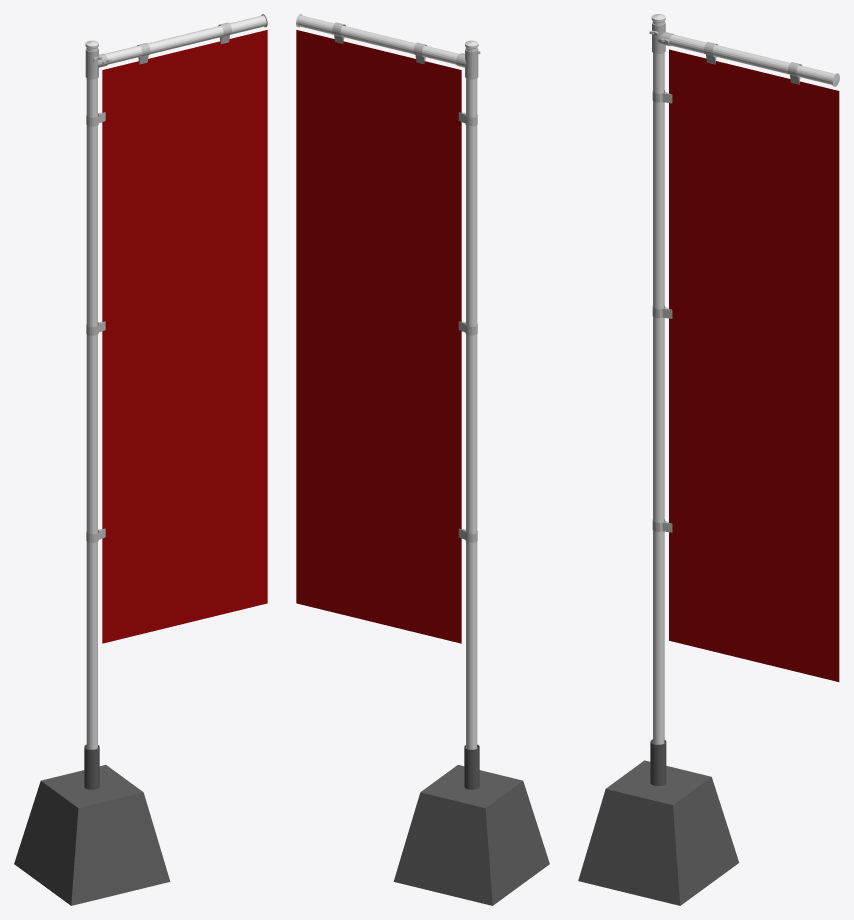
File: flag.fbx
3 views of the same model, side by side, from view 1: azimuth 30°, elevation 25°; view 2: azimuth 150°, elevation 25°; view 3: azimuth 330°, elevation 25° (orthographic). The views are drawn at different scales.
Visible parts, largest first — view 1: pPipe3; view 2: pPipe3; view 3: pPipe3.
Part boxes in pixels (box(x1,y1,x2,y2)): pPipe3: box(14, 14, 267, 905); pPipe3: box(296, 14, 549, 905); pPipe3: box(578, 14, 839, 905).
Size of the model in its own units: 1.36 by 4.81 by 0.6.
